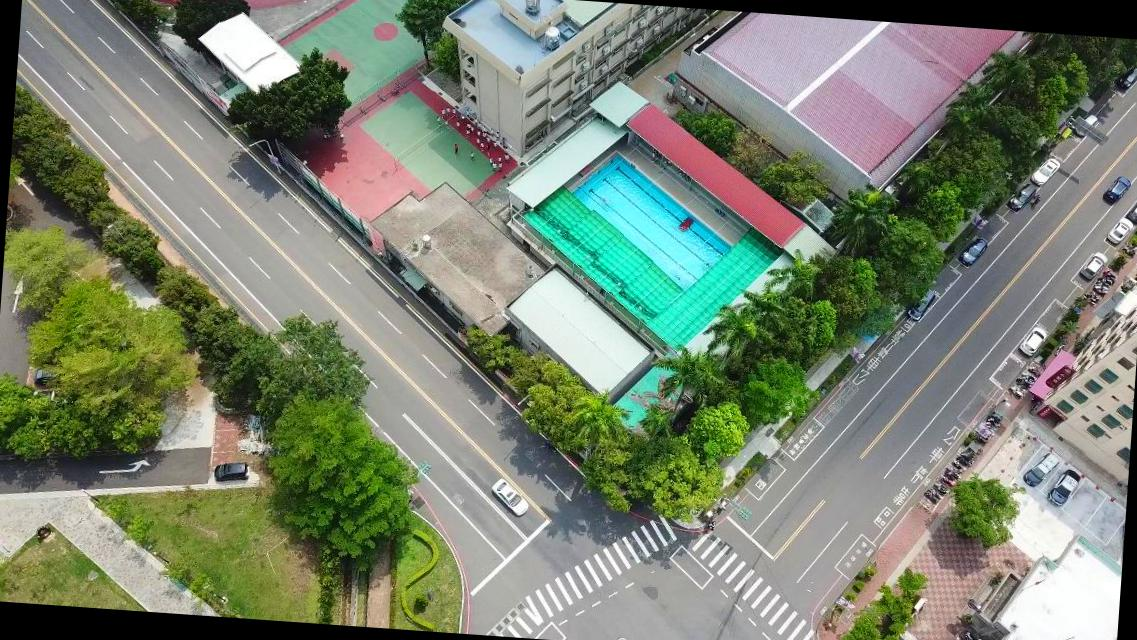vehicle: (488, 475, 529, 516), (1044, 467, 1081, 507), (1022, 450, 1058, 488), (905, 288, 935, 324), (1028, 156, 1060, 189), (957, 235, 987, 267), (1078, 248, 1108, 280), (212, 459, 248, 484), (1006, 182, 1036, 212), (1018, 326, 1046, 358), (1102, 173, 1130, 203), (1106, 216, 1134, 244), (32, 365, 68, 385), (1113, 63, 1136, 91), (1074, 111, 1096, 137), (1127, 198, 1136, 223)
